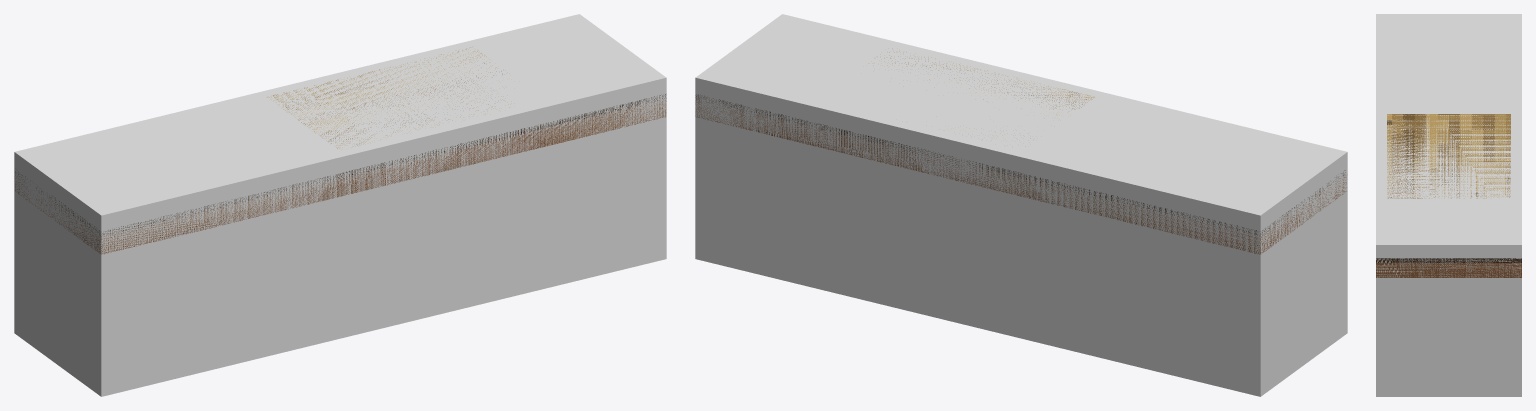
File: JP_Prop_BenchMat_A.glb
The picture shows the model from 3 angles, left to right: view 1: azimuth 30°, elevation 25°; view 2: azimuth 150°, elevation 25°; view 3: azimuth 270°, elevation 25°; orthographic projection. The views are drawn at different scales.
Parts seen in each view (by area): view 1: COL_JP_Prop_BenchMat_A, JP_Prop_BenchMat_A; view 2: COL_JP_Prop_BenchMat_A, JP_Prop_BenchMat_A; view 3: COL_JP_Prop_BenchMat_A, JP_Prop_BenchMat_A.
Boxes of the visible parts, x1,y1,x2,y2 form: COL_JP_Prop_BenchMat_A: (14, 14, 666, 396); JP_Prop_BenchMat_A: (14, 47, 666, 254); COL_JP_Prop_BenchMat_A: (695, 14, 1347, 396); JP_Prop_BenchMat_A: (695, 48, 1346, 254); COL_JP_Prop_BenchMat_A: (1376, 14, 1521, 396); JP_Prop_BenchMat_A: (1376, 114, 1521, 277).
Bounding box in the file's own units: 1.5 × 0.46 × 0.4.
3 materials, 3 textured.
